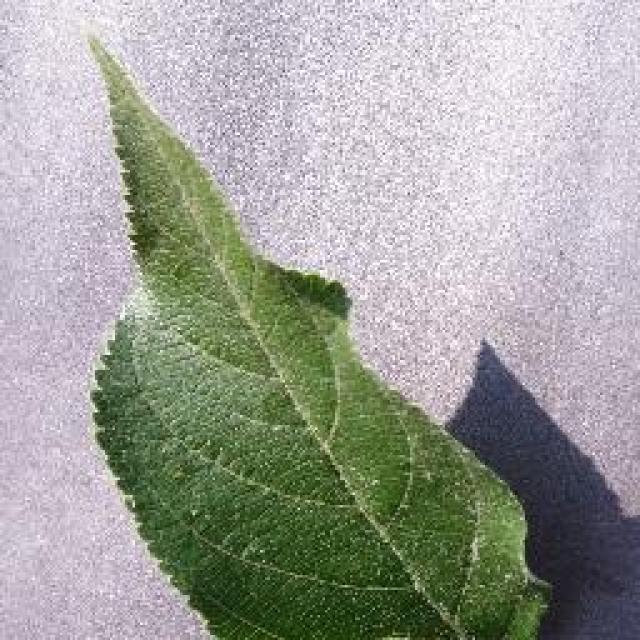apple healthy: (78, 18, 558, 638)
